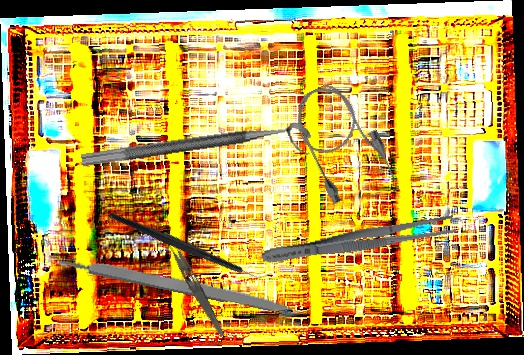Cannula: (283, 73, 401, 211)
Chopper: (108, 165, 273, 325)
Dressing Forceps: (260, 211, 457, 270), (159, 228, 230, 339)
Fixation Ring: (80, 120, 314, 187)
Scalpel Handle: (57, 251, 296, 317)
